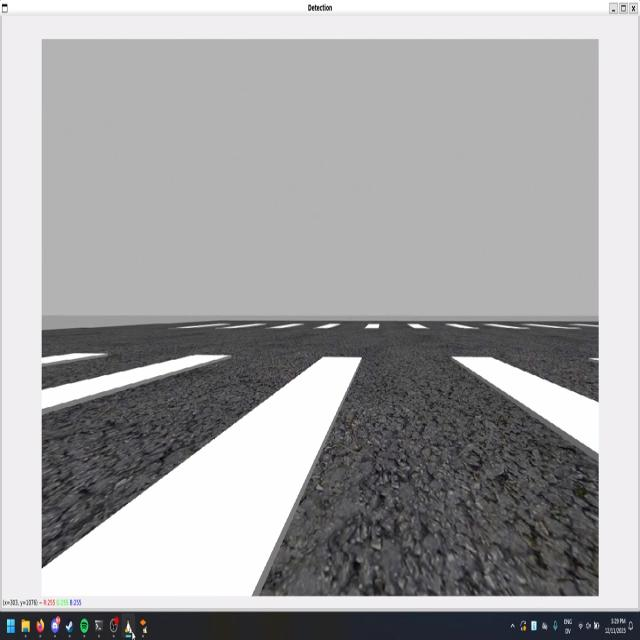crosswalk: (42, 352, 598, 591)
